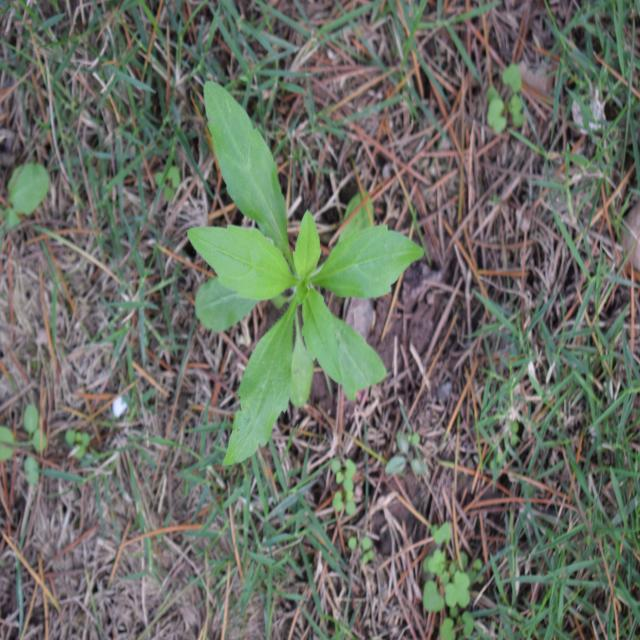horseweed: (185, 118, 417, 455)
